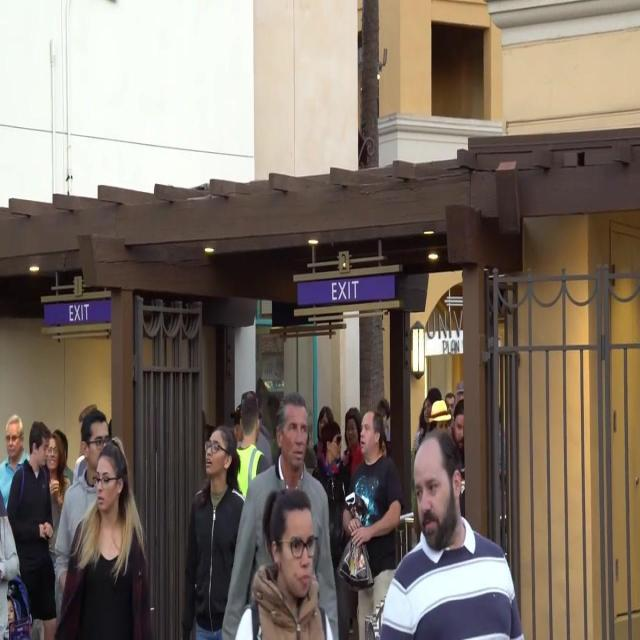Vest: (237, 442, 266, 499)
